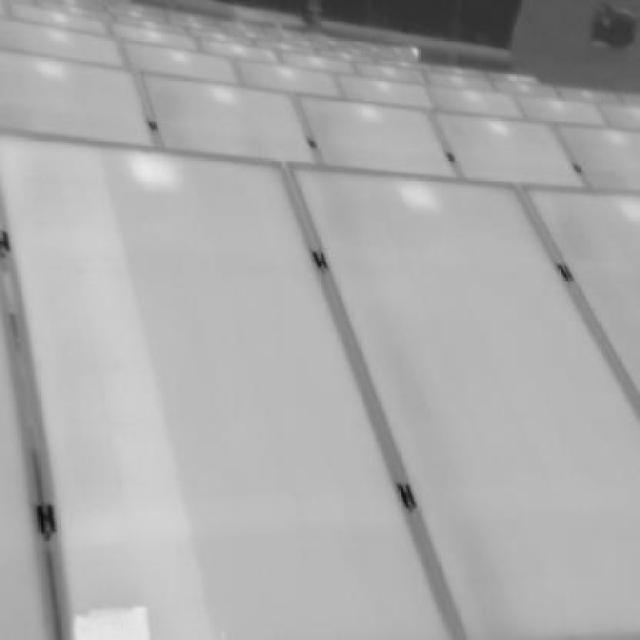hotspot: (57, 595, 157, 640)
